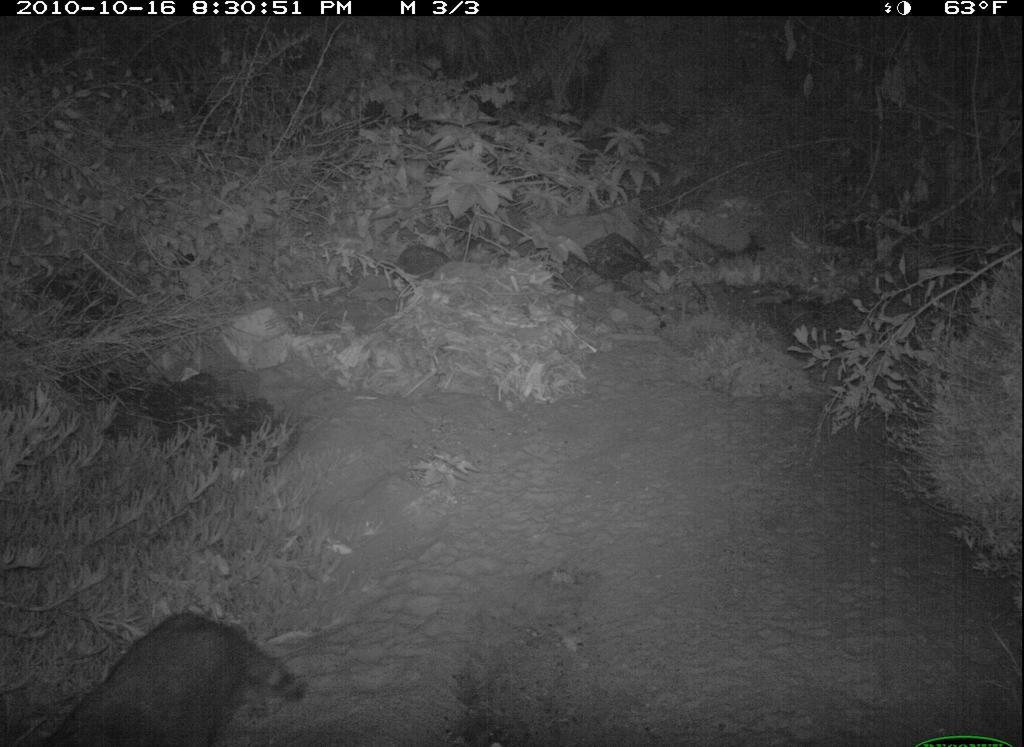raccoon: (21, 589, 306, 745)
